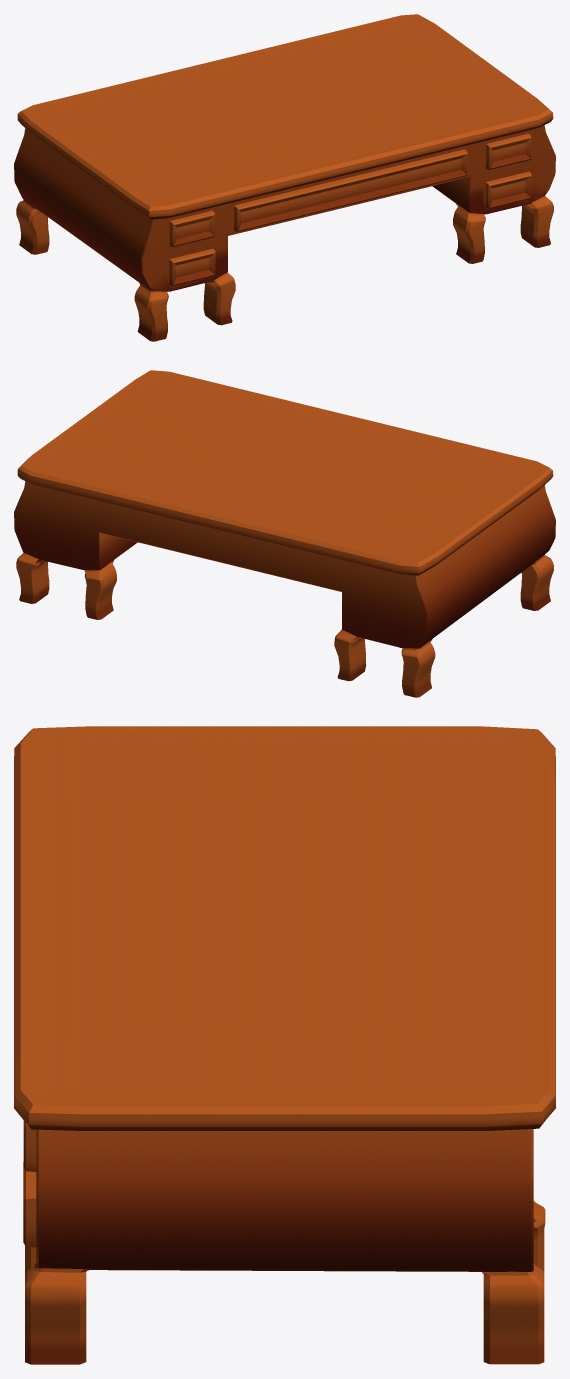
The model's file is Table.fbx.
3 renders of one model, top to bottom at view 1: azimuth 30°, elevation 25°; view 2: azimuth 150°, elevation 25°; view 3: azimuth 270°, elevation 25°, orthographic. The views are drawn at different scales.
Visible parts, largest first — view 1: table; view 2: table; view 3: table.
Boxes of the visible parts, left/top/right/bottom form: table: left=14, top=14, right=555, bottom=341; table: left=14, top=370, right=555, bottom=697; table: left=14, top=726, right=555, bottom=1364.
Bounding box in the file's own units: 1.68 × 0.5172 × 0.9813.
Materials: 1 (1 with a texture image).
